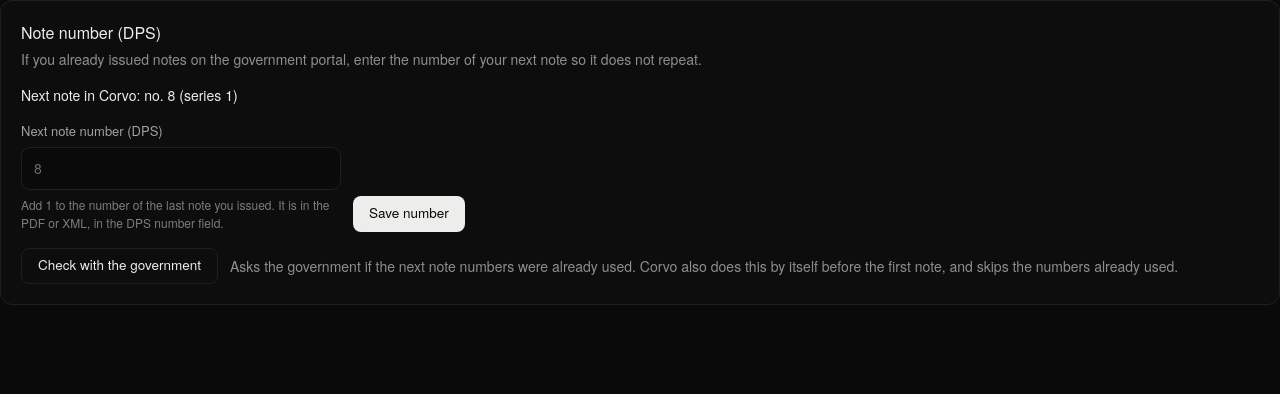
it: DpsSequenceCard › checks with the government and starts at the suggested number
Expected: the text "Next note in Corvo: no. 8 (series 1)" is shown, 21,85 -> 238,105
Step 1. Click the button "Check with the government" → (120, 266), box 21,248 -> 218,284
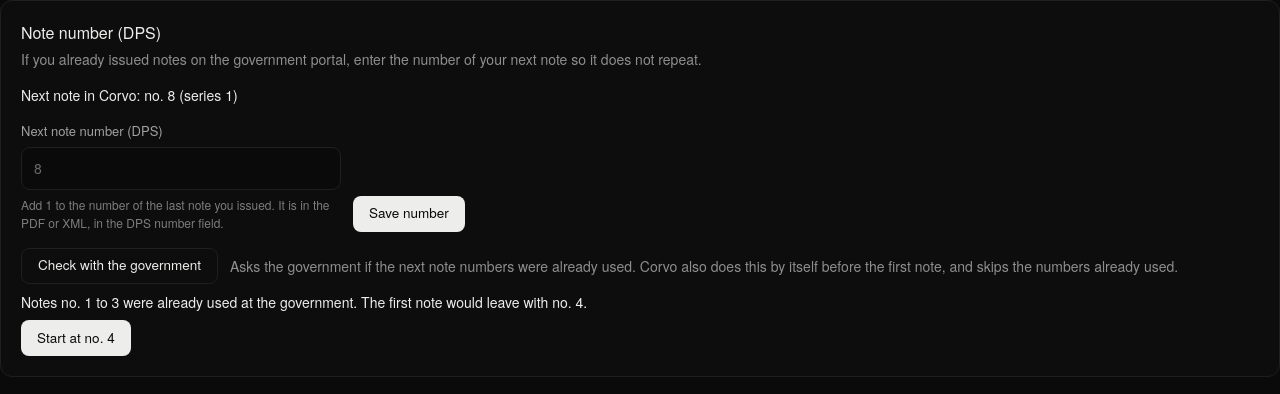
Expected: the text "Notes no. 1 to 3 were already used at the government" is shown, 21,292 -> 587,312
Step 2. Click the button "Start at no. 4" → (76, 338), box 21,320 -> 131,356
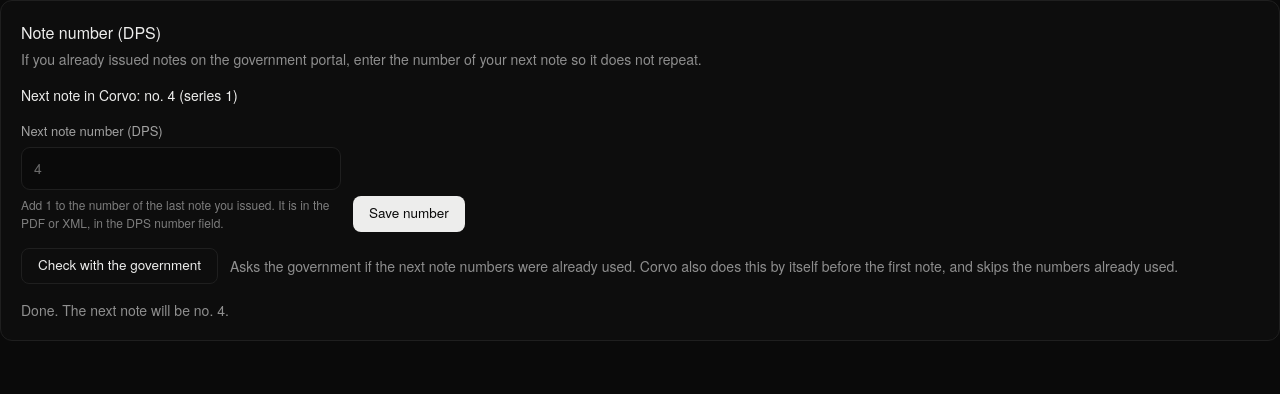
Expected: the text "Done. The next note will be no. 4." is shown, 21,300 -> 229,320
